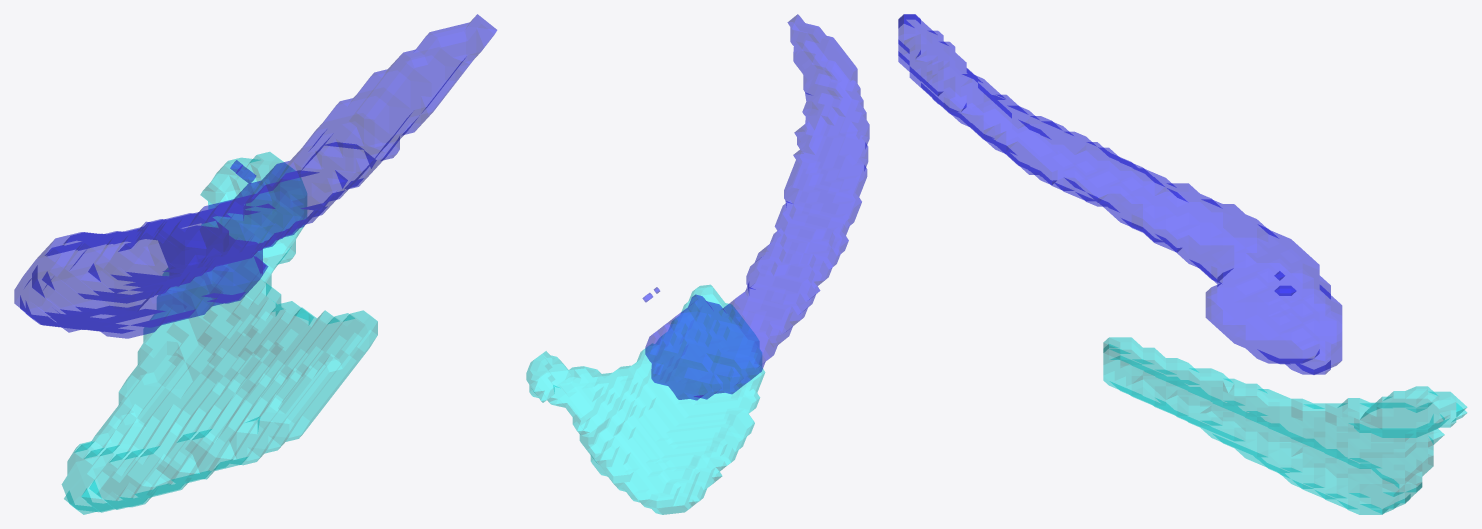
The picture shows the model from 3 angles, left to right: view 1: azimuth 30°, elevation 25°; view 2: azimuth 150°, elevation 25°; view 3: azimuth 270°, elevation 25°; orthographic projection. The views are drawn at different scales.
Visible parts, largest first — view 1: ERC, CA4DG; view 2: CA4DG, ERC; view 3: CA4DG, ERC.
Part boxes in pixels (x1,y1,x2,y2): ERC: (61, 152, 377, 514); CA4DG: (14, 14, 496, 338); CA4DG: (642, 14, 869, 400); ERC: (526, 284, 765, 514); CA4DG: (898, 14, 1342, 374); ERC: (1103, 337, 1467, 514).
Bounding box in the file's own units: 19.6 × 35 × 35.
